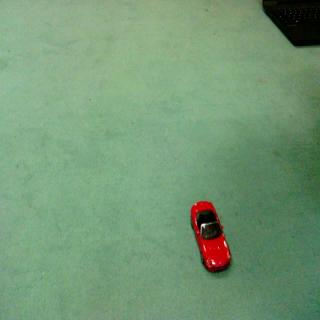car: (184, 195, 236, 276)
